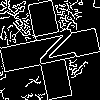N: (25, 25, 77, 70)
